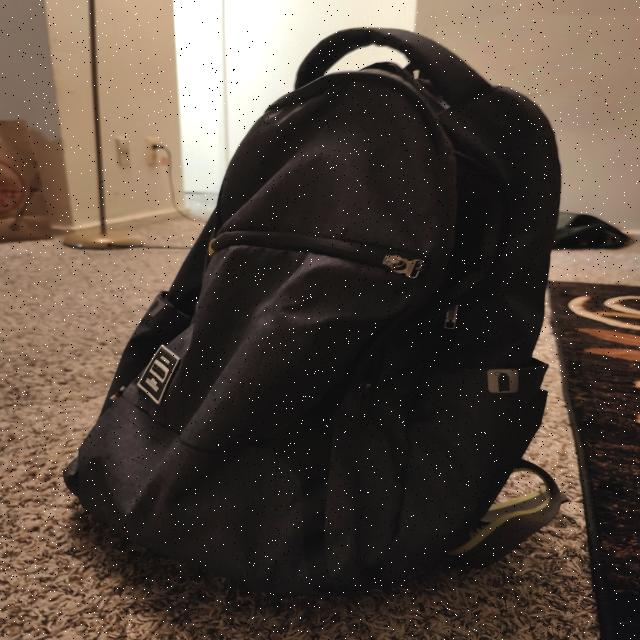bag: (56, 26, 558, 572)
